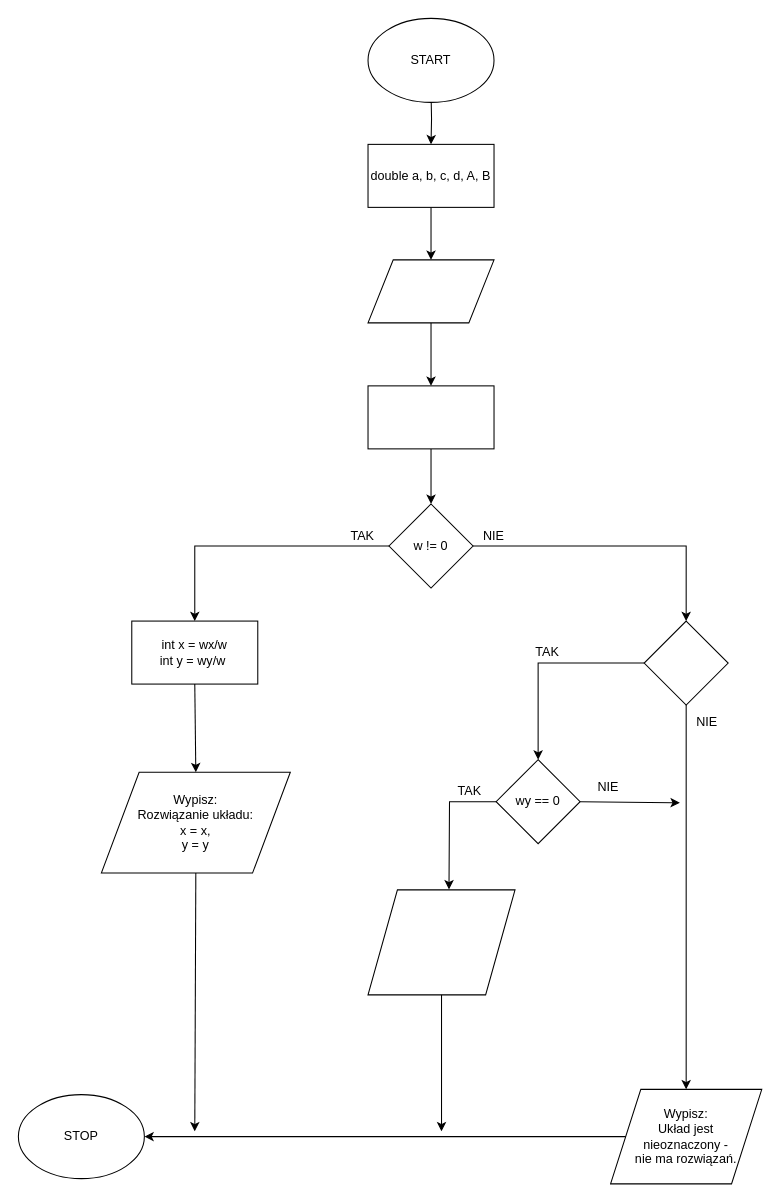
This 780x1202 diagram has some shape labels left out. The centre of each missing label's shape, as x and y in pixels:
"double w = a*d-c*b double wx = A*d-B*b double wy = a*B-c*A" goes at point 430,417.
"Wprowadź współczynniki równań - a, b, c, d, A, B" goes at point 430,291.
"wx ==0" goes at point 685,662.
"Wypisz: Układ równań ma nieskończenie wiele rozwiązań" goes at point 441,942.
